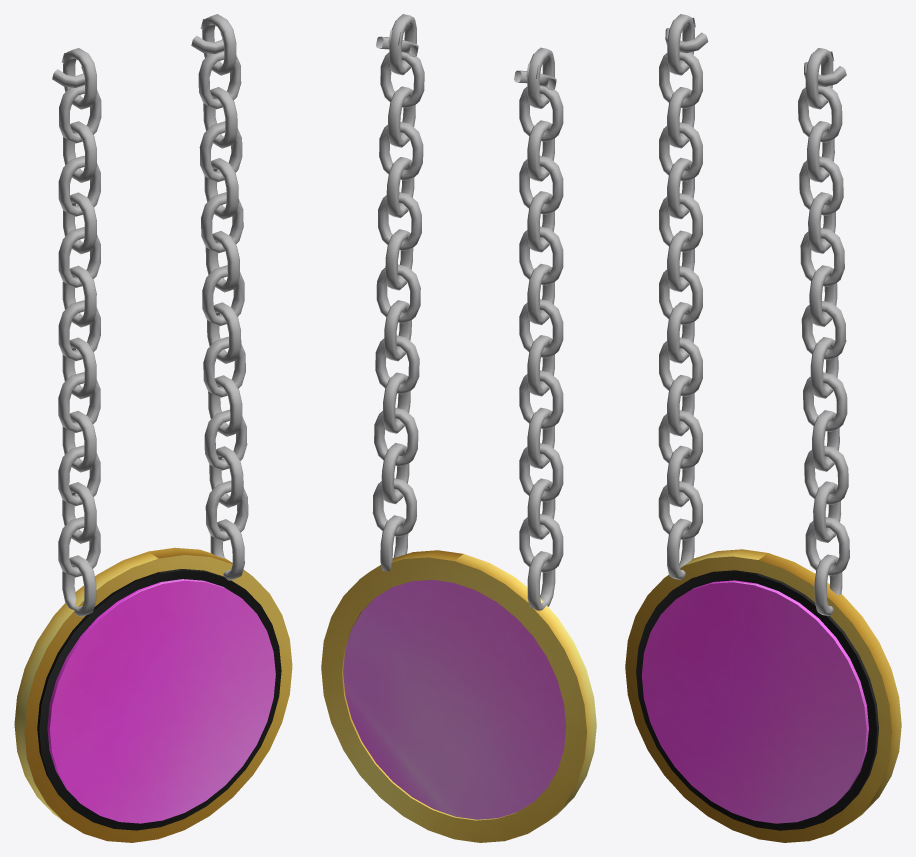
File: UI_cocktail.obj
The picture shows the model from 3 angles, left to right: view 1: azimuth 30°, elevation 25°; view 2: azimuth 150°, elevation 25°; view 3: azimuth 330°, elevation 25°; orthographic projection.
Visible parts, largest first — view 1: BarSign.004; view 2: BarSign.004; view 3: BarSign.004.
Boxes of the visible parts, bbox=[...] form: BarSign.004: bbox=[14, 14, 292, 842]; BarSign.004: bbox=[321, 14, 596, 842]; BarSign.004: bbox=[625, 14, 901, 842].
Size of the model in its own units: 2 by 5.75 by 0.3054.
Materials: 1 (1 with a texture image).
